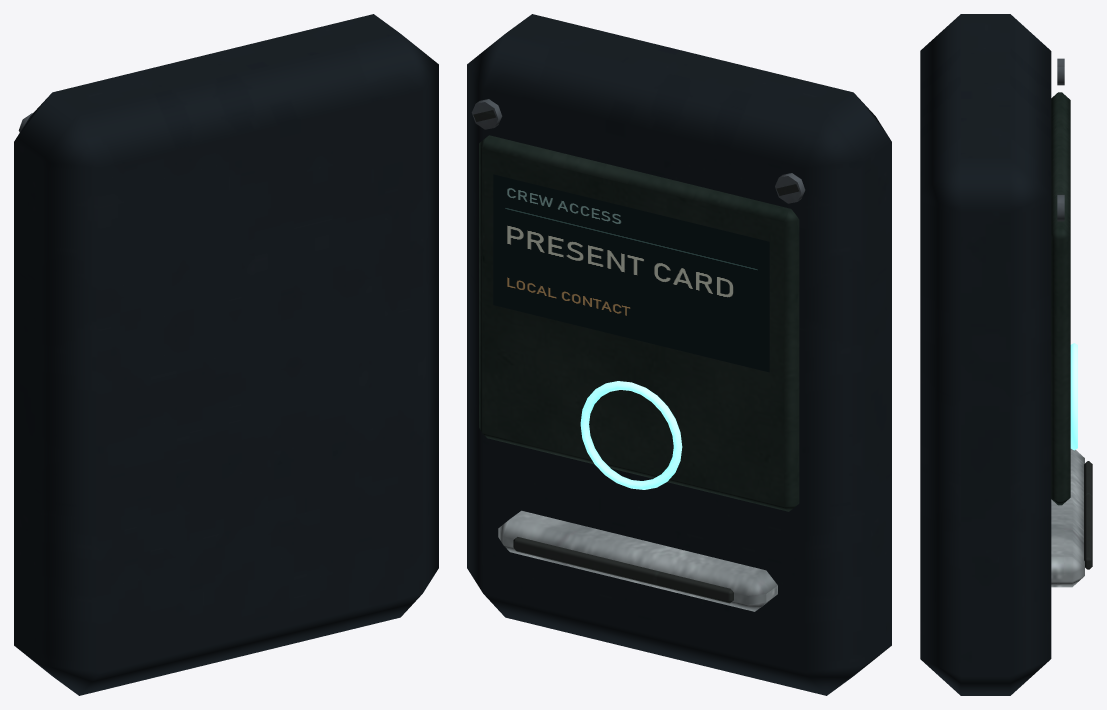
Rendered from prop_card_reader.fbx.
3 renders of one model, left to right at view 1: azimuth 30°, elevation 25°; view 2: azimuth 150°, elevation 25°; view 3: azimuth 270°, elevation 25°, orthographic. The views are drawn at different scales.
Parts seen in each view (by area): view 1: SM_prop_card_reader; view 2: SM_prop_card_reader; view 3: SM_prop_card_reader.
Boxes of the visible parts, x1,y1,x2,y2 form: SM_prop_card_reader: [14, 14, 438, 695]; SM_prop_card_reader: [467, 14, 891, 695]; SM_prop_card_reader: [920, 14, 1092, 695].
Bounding box in the file's own units: 0.239 × 0.335 × 0.0975.
7 materials, 6 textured.
